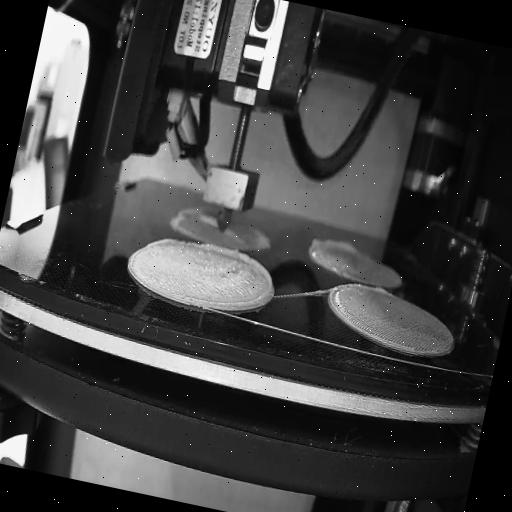over_extrusion: (180, 238, 279, 318), (302, 232, 358, 266), (146, 232, 185, 254), (194, 209, 218, 228), (224, 224, 244, 243), (370, 286, 393, 298)
